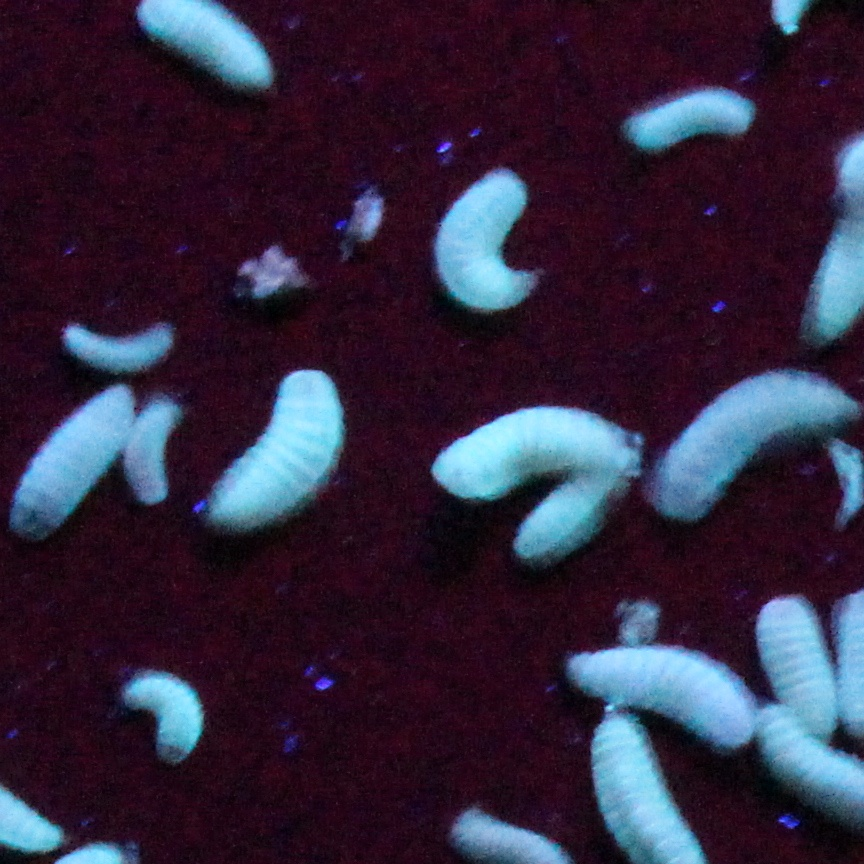larve: (653, 367, 863, 517), (205, 372, 348, 523), (563, 643, 747, 744), (10, 386, 128, 535), (424, 171, 531, 309), (428, 412, 619, 477), (755, 599, 837, 730), (612, 83, 751, 148), (516, 481, 622, 562), (123, 667, 201, 766), (58, 323, 177, 370), (131, 395, 178, 506)
